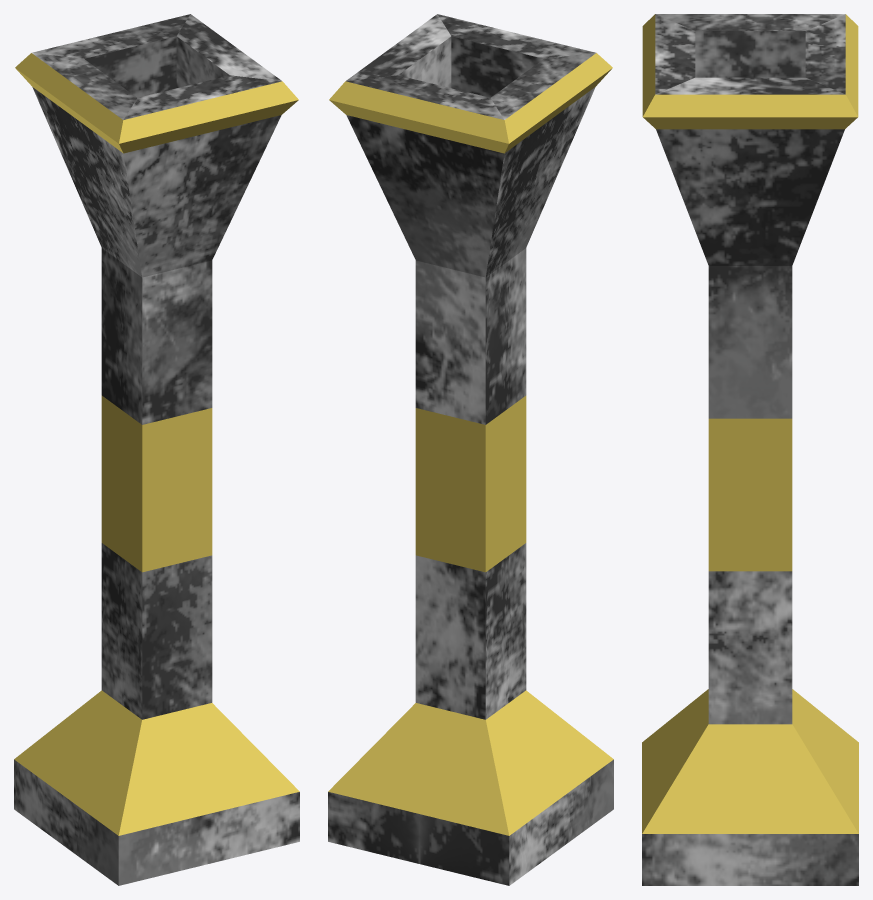
File: torch.glb
3 renders of one model, left to right at view 1: azimuth 30°, elevation 25°; view 2: azimuth 150°, elevation 25°; view 3: azimuth 270°, elevation 25°, orthographic. The views are drawn at different scales.
Parts seen in each view (by area): view 1: Plane; view 2: Plane; view 3: Plane.
Part boxes in pixels (x1,y1,x2,y2): Plane: (14, 14, 299, 885); Plane: (328, 14, 613, 885); Plane: (642, 14, 858, 885).
Bounding box in the file's own units: 2 × 7.99 × 2.
Materials: 2 (1 with a texture image).
